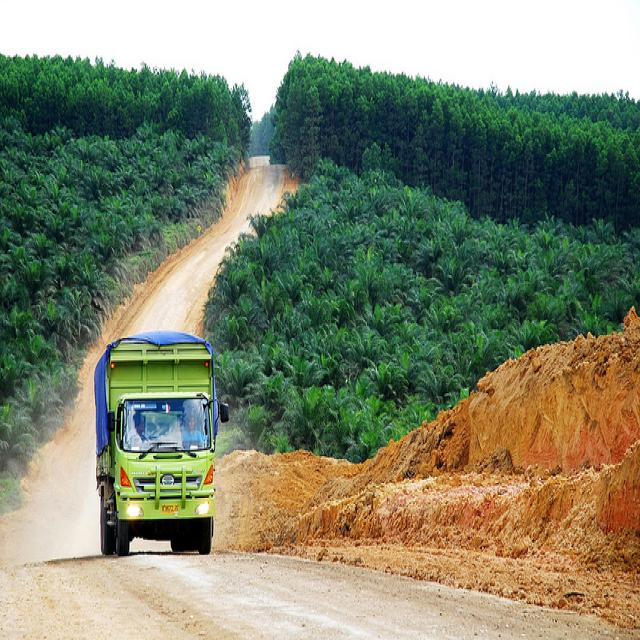Truck: (94, 329, 221, 564)
